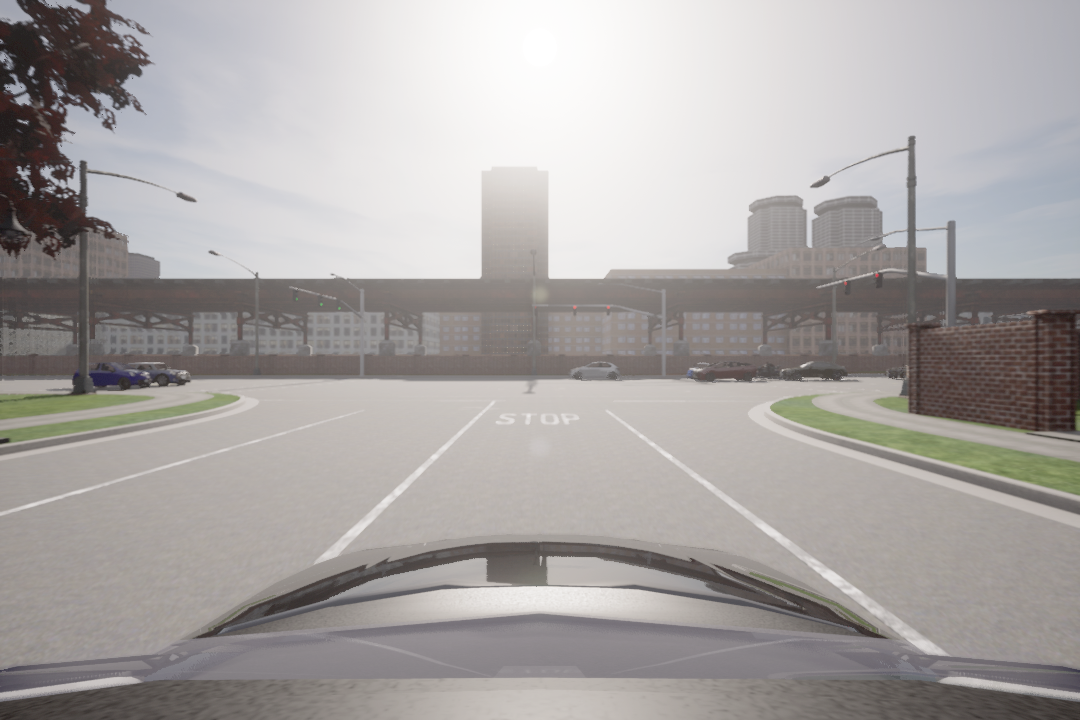TrafficLight: (874, 271, 883, 291), (844, 279, 852, 295), (604, 304, 612, 318), (571, 303, 577, 318)
